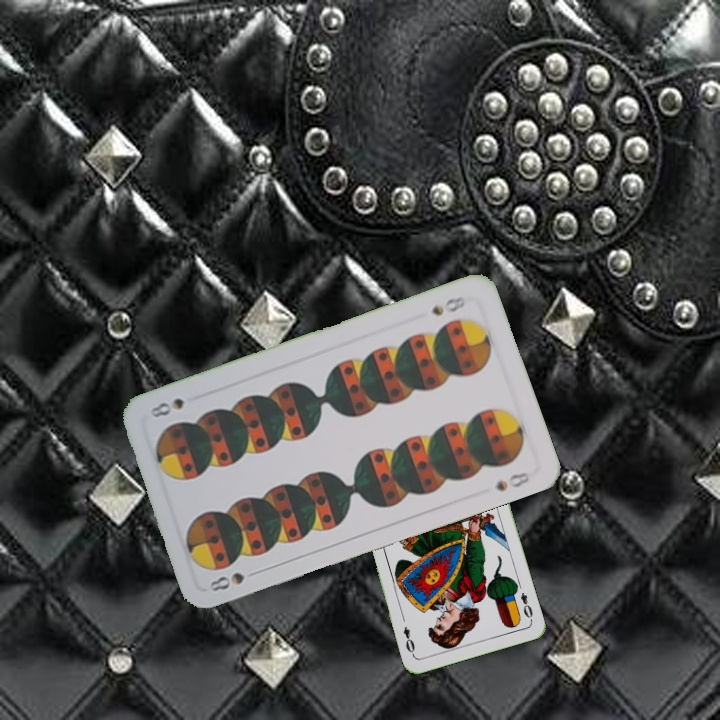EO: (516, 588, 535, 624)
S8: (427, 292, 468, 319), (205, 568, 247, 594)
